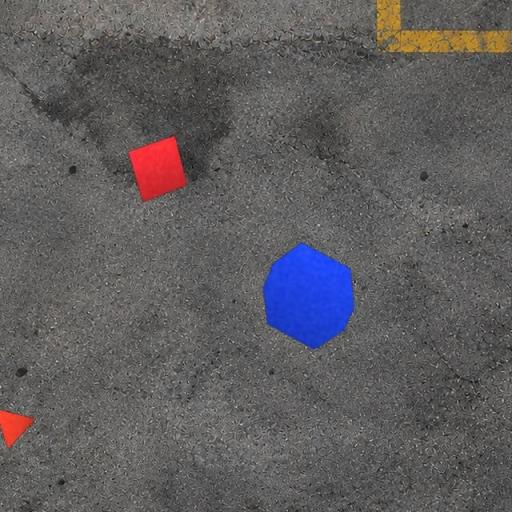RED_SQUARE: (128, 134, 188, 204)
